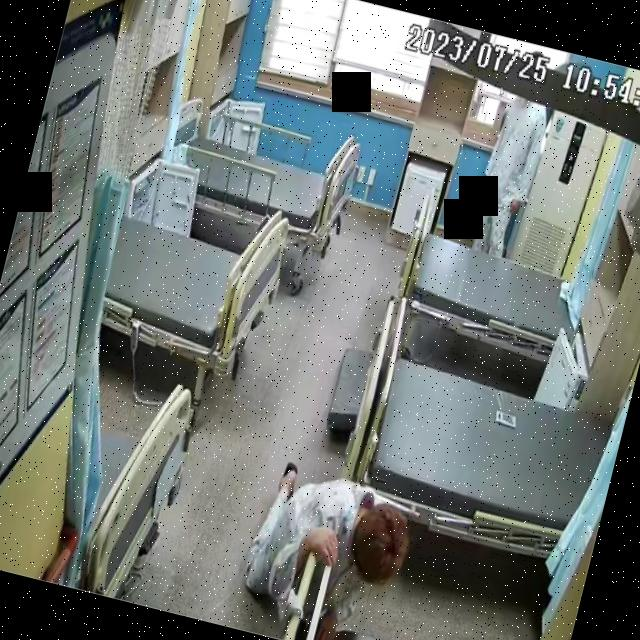bed: (351, 346, 620, 570), (89, 174, 299, 386), (157, 95, 366, 256), (390, 204, 595, 365)
danger: (229, 456, 422, 640)
patient: (229, 457, 422, 640)
